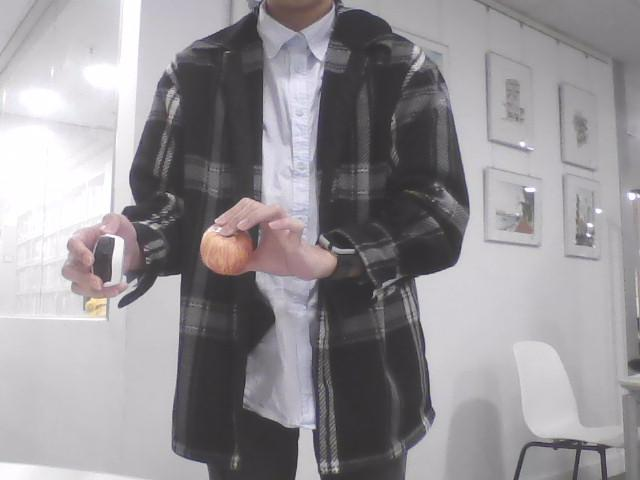apple: (200, 222, 253, 275)
